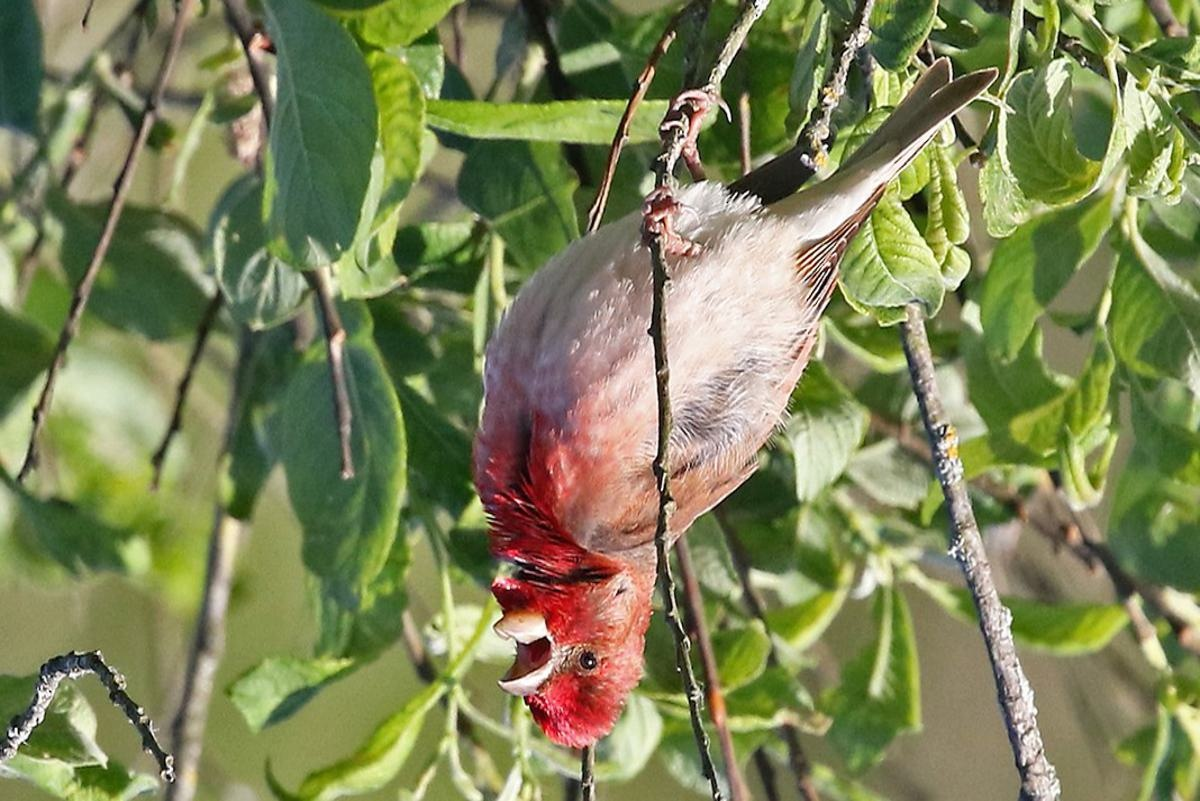rosefinch: (477, 185, 809, 748)
